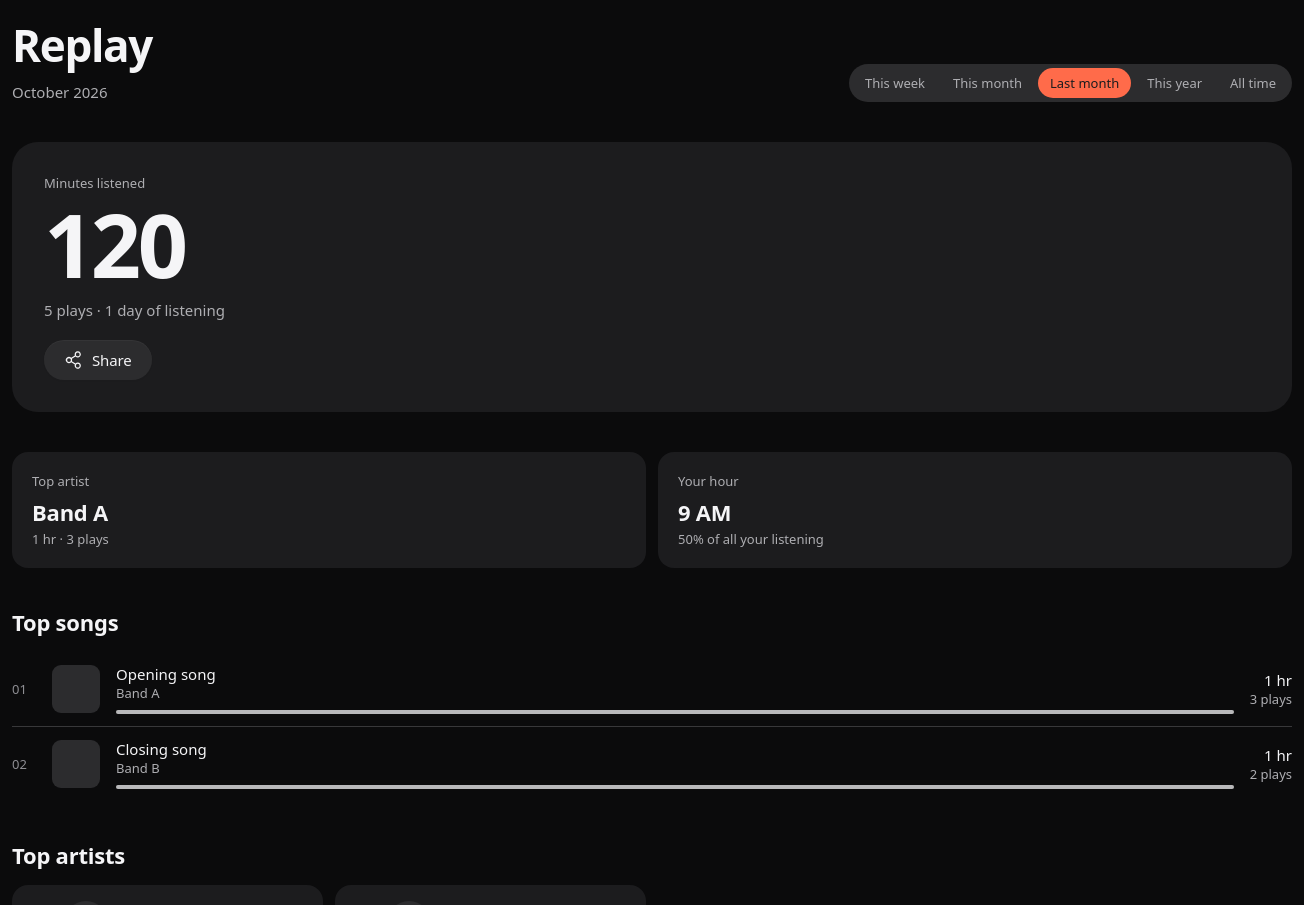
ReplayView period switch › names all time from the first recorded month
expect the text "120" is shown: met, box [44, 184, 184, 304]
Click the tab "All time".
click(1253, 83)  # box [1218, 68, 1288, 98]
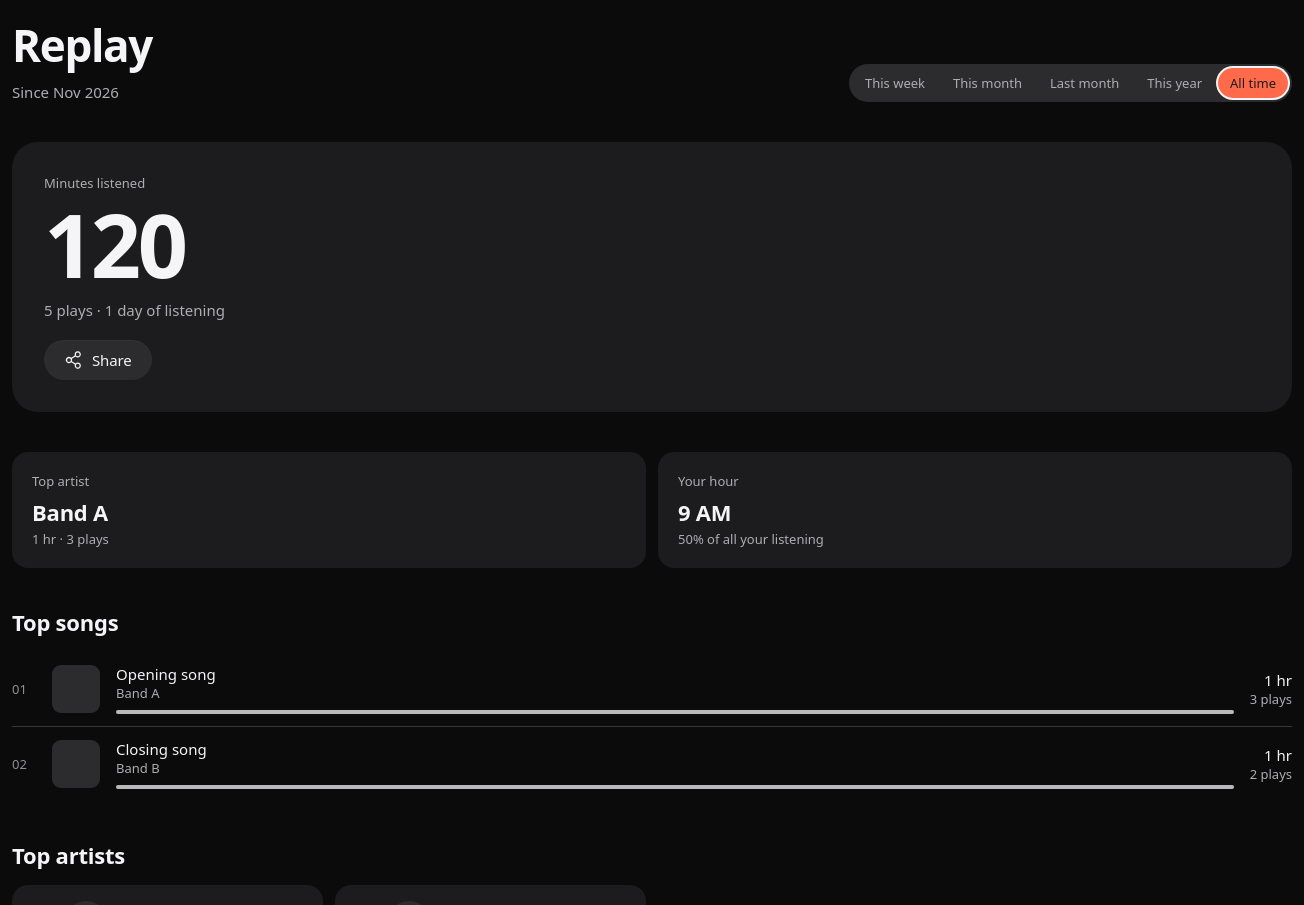
expect the text "Since Nov 2026" is shown: met, box [12, 82, 119, 102]
